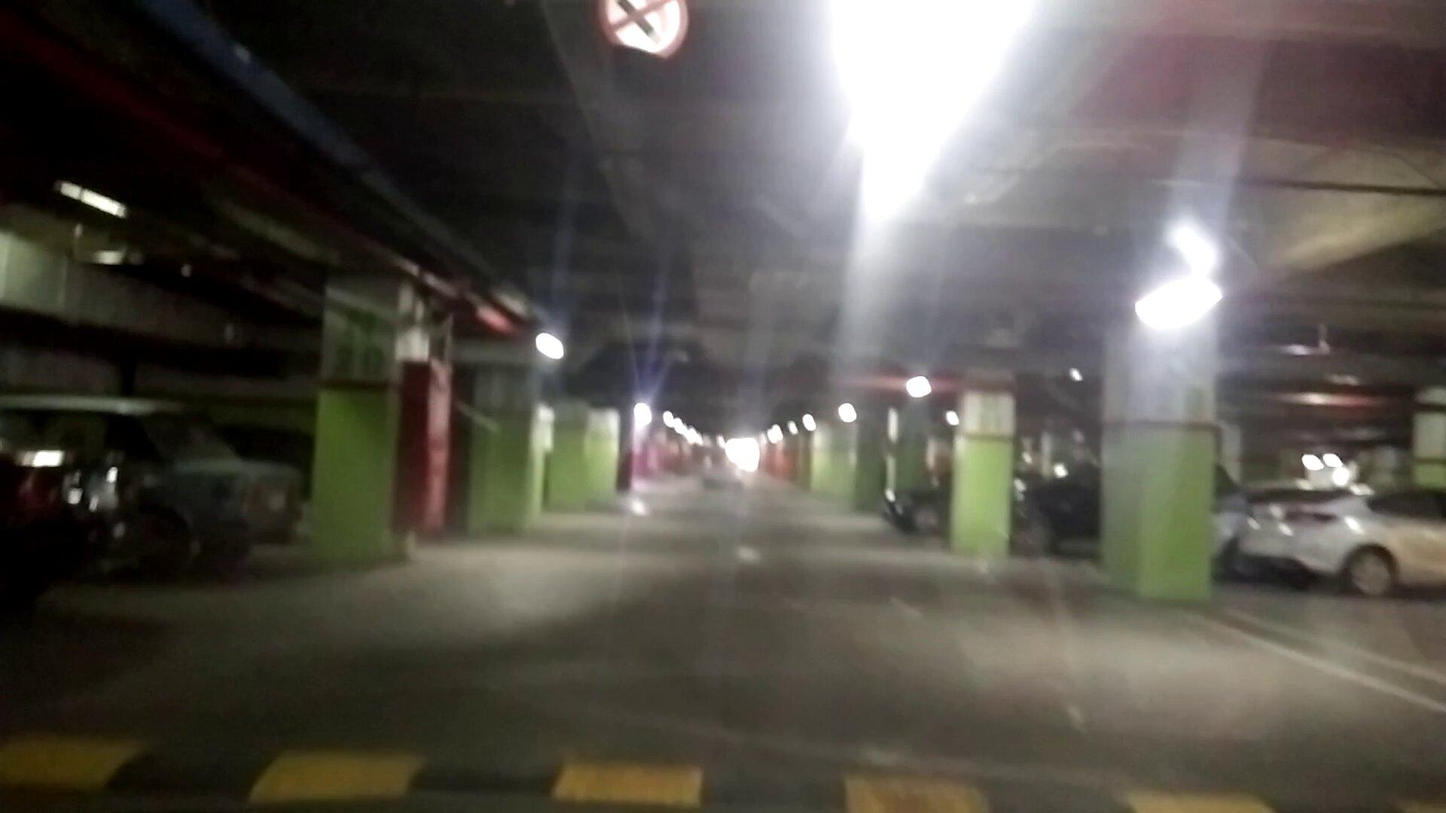Bump: (15, 721, 1446, 813)
